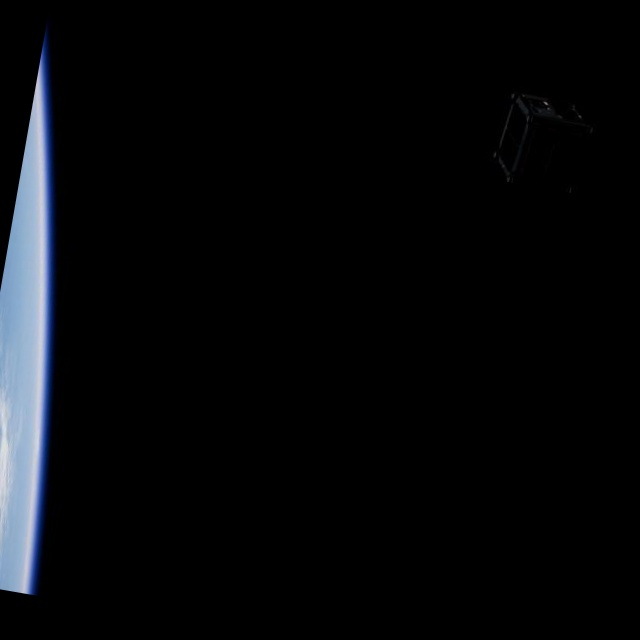medium_debris: (478, 83, 598, 205)
